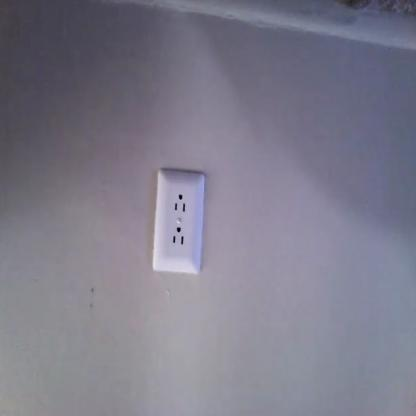OUTLET: (152, 170, 206, 272)
